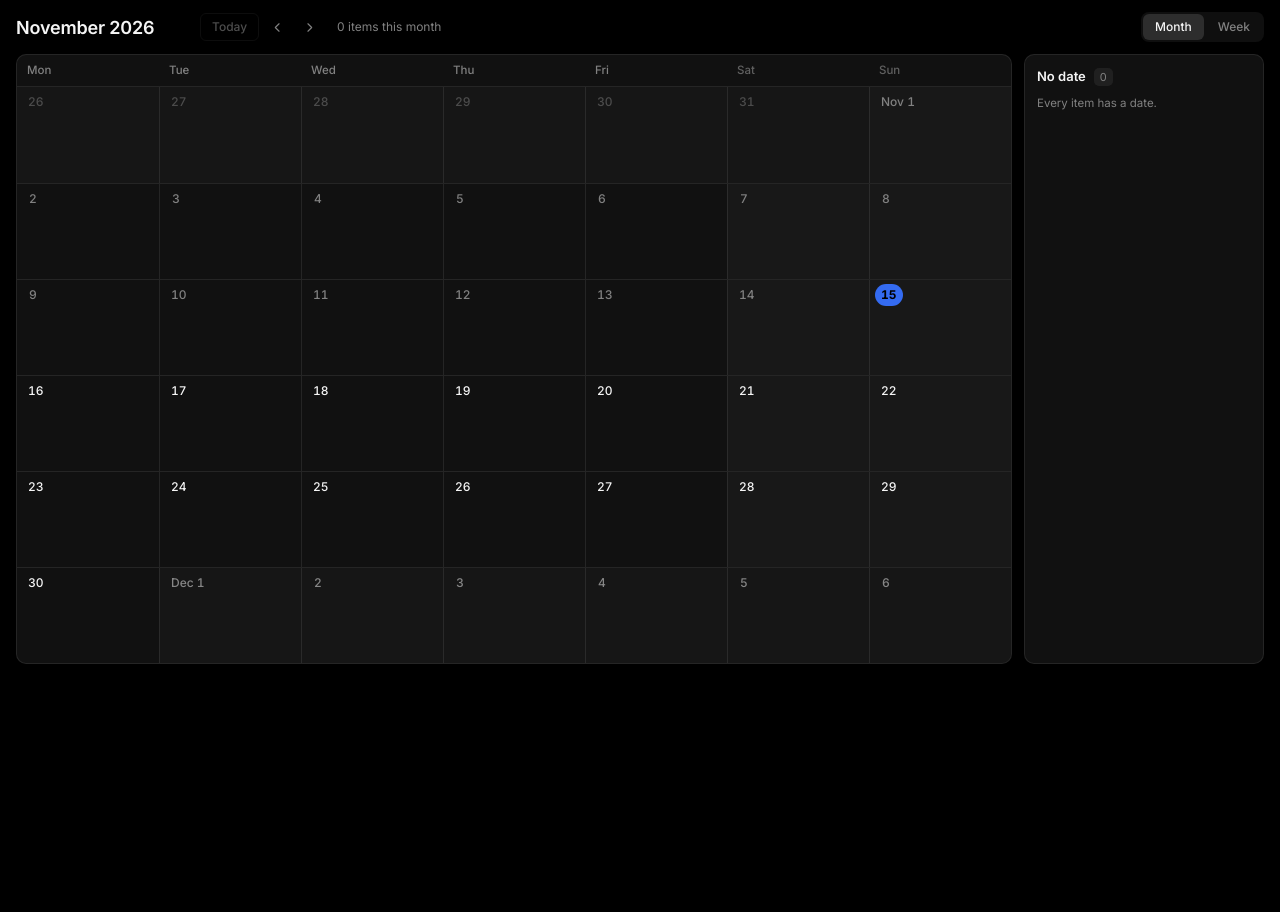
Test: CalendarView, month › moves between months with the navigation, and back to today
Step 1. Click the button named "Next" → click(309, 27), box [295,13,323,41]
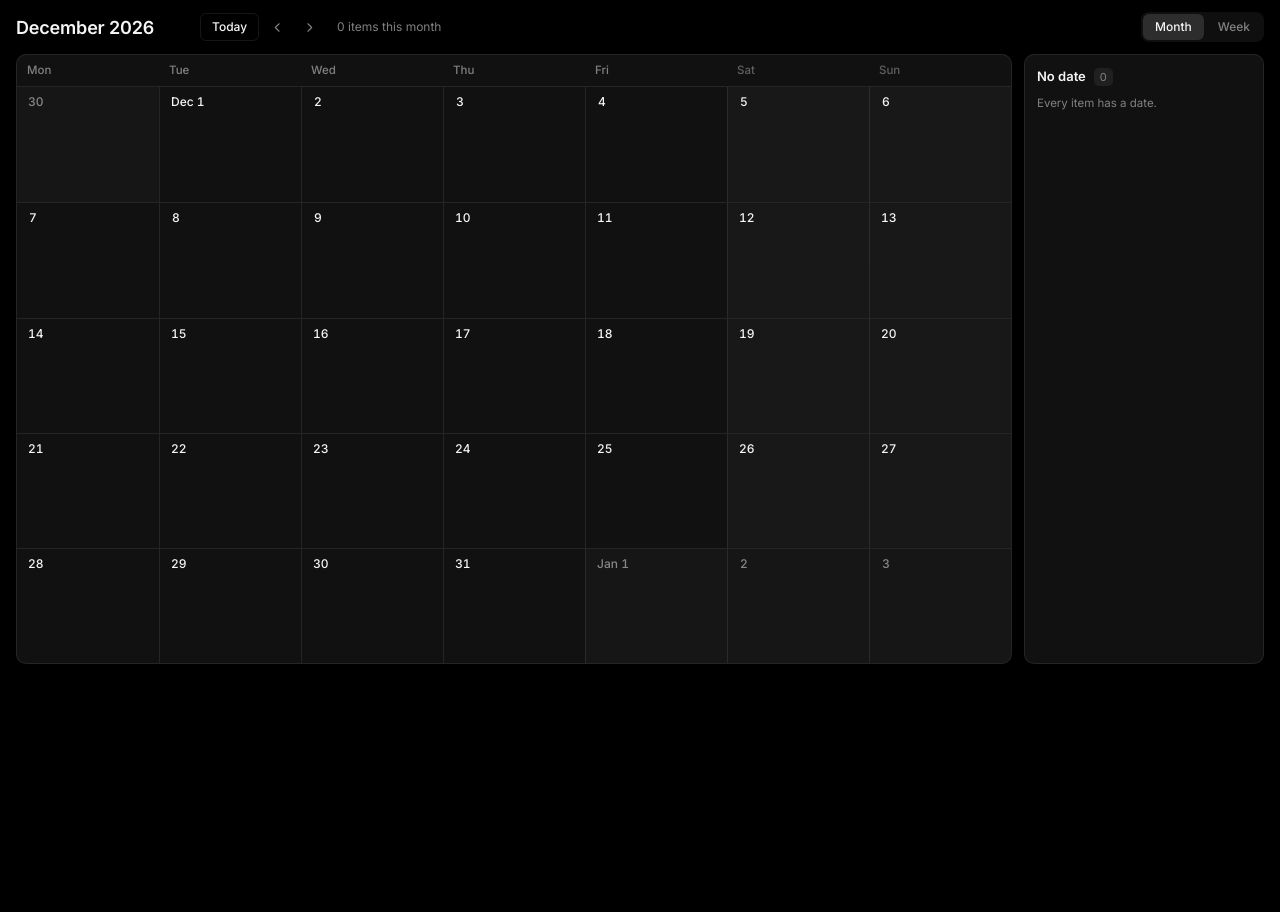
Check: the heading "December 2026" is shown, box [16,16,154,38]
Step 2. Click the button "Today" → click(230, 27), box [200,13,259,41]
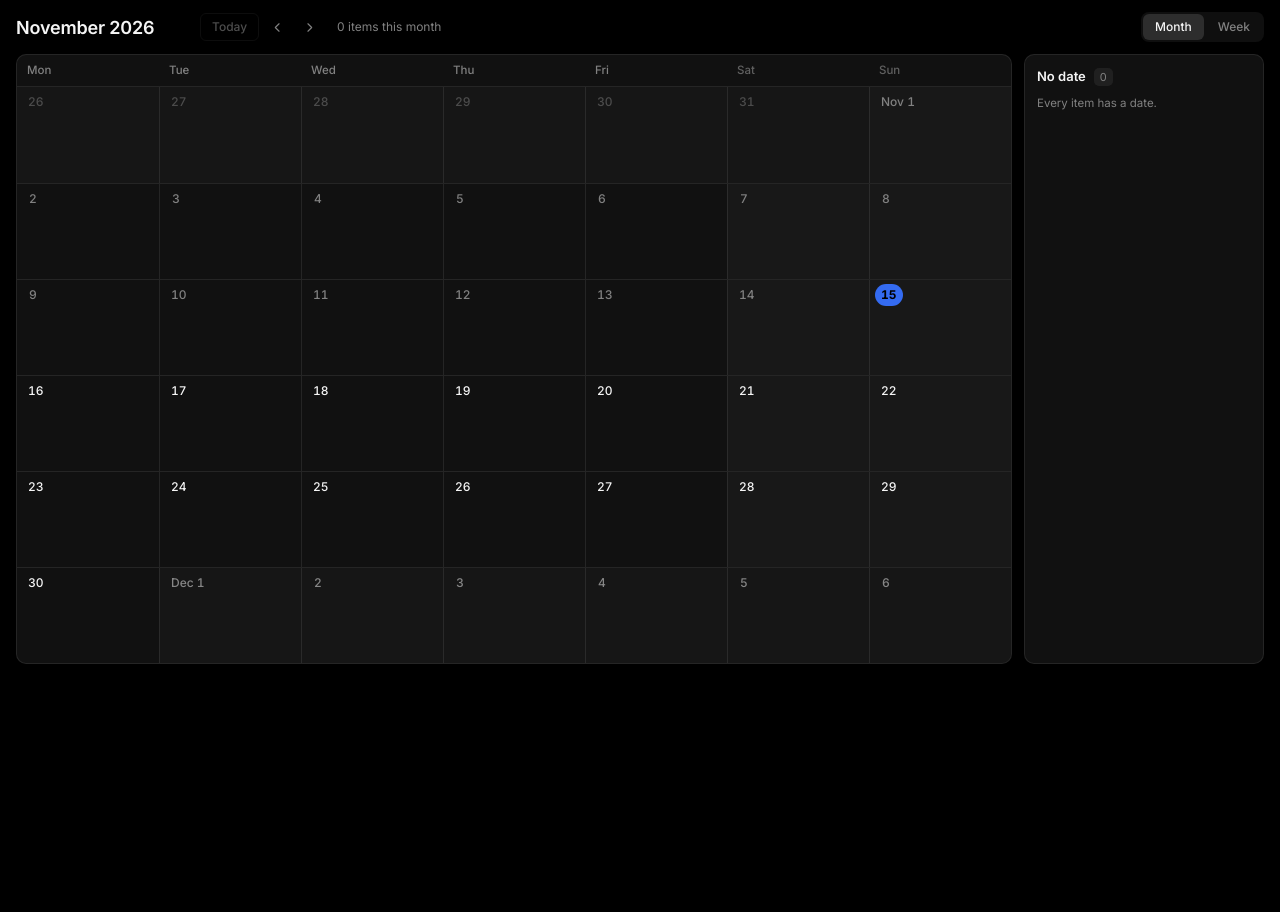
Check: the heading "November 2026" is shown, box [16,16,154,38]
Step 3. Click the button named "Previous" → click(277, 27), box [263,13,291,41]
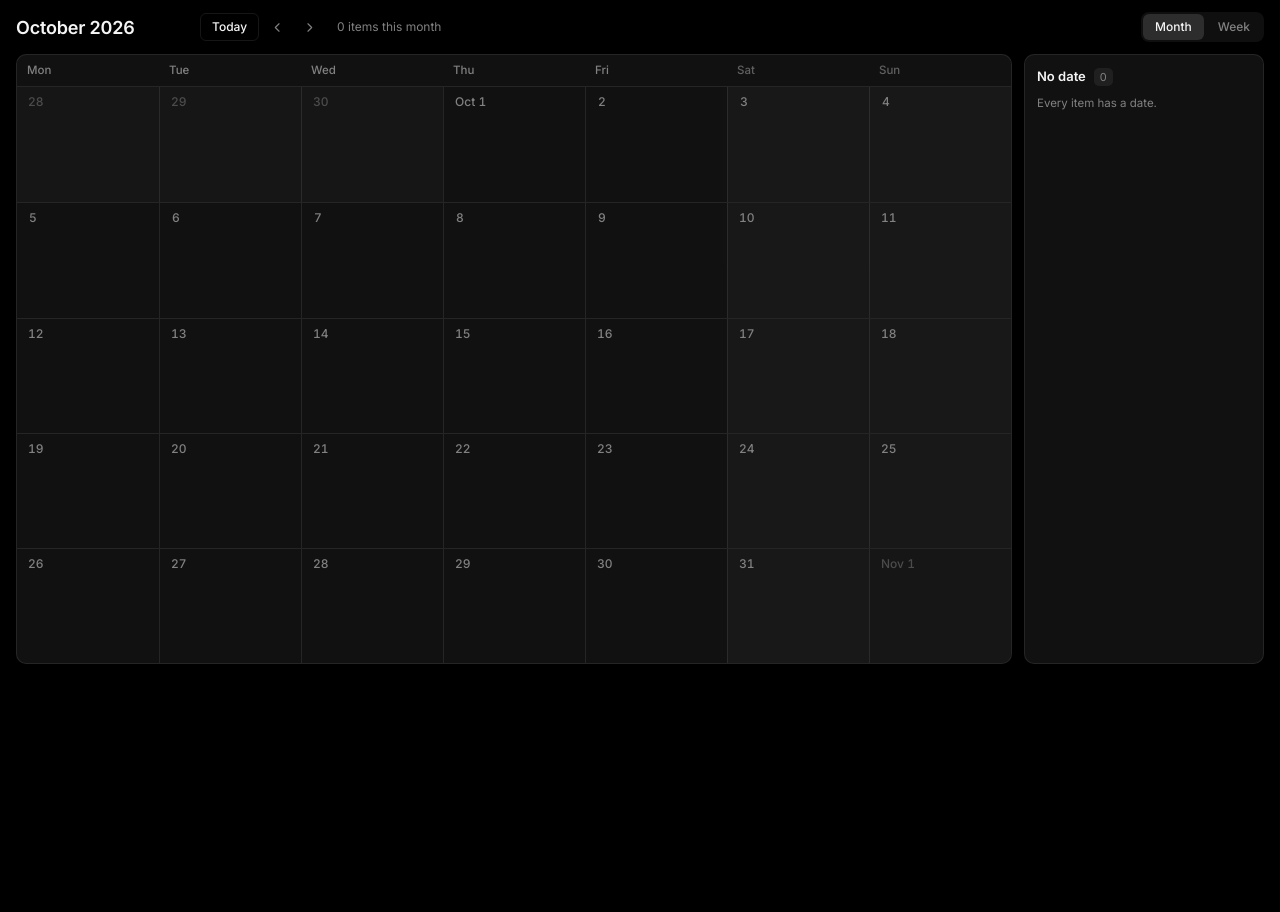
Check: the heading "October 2026" is shown, box [16,16,135,38]
